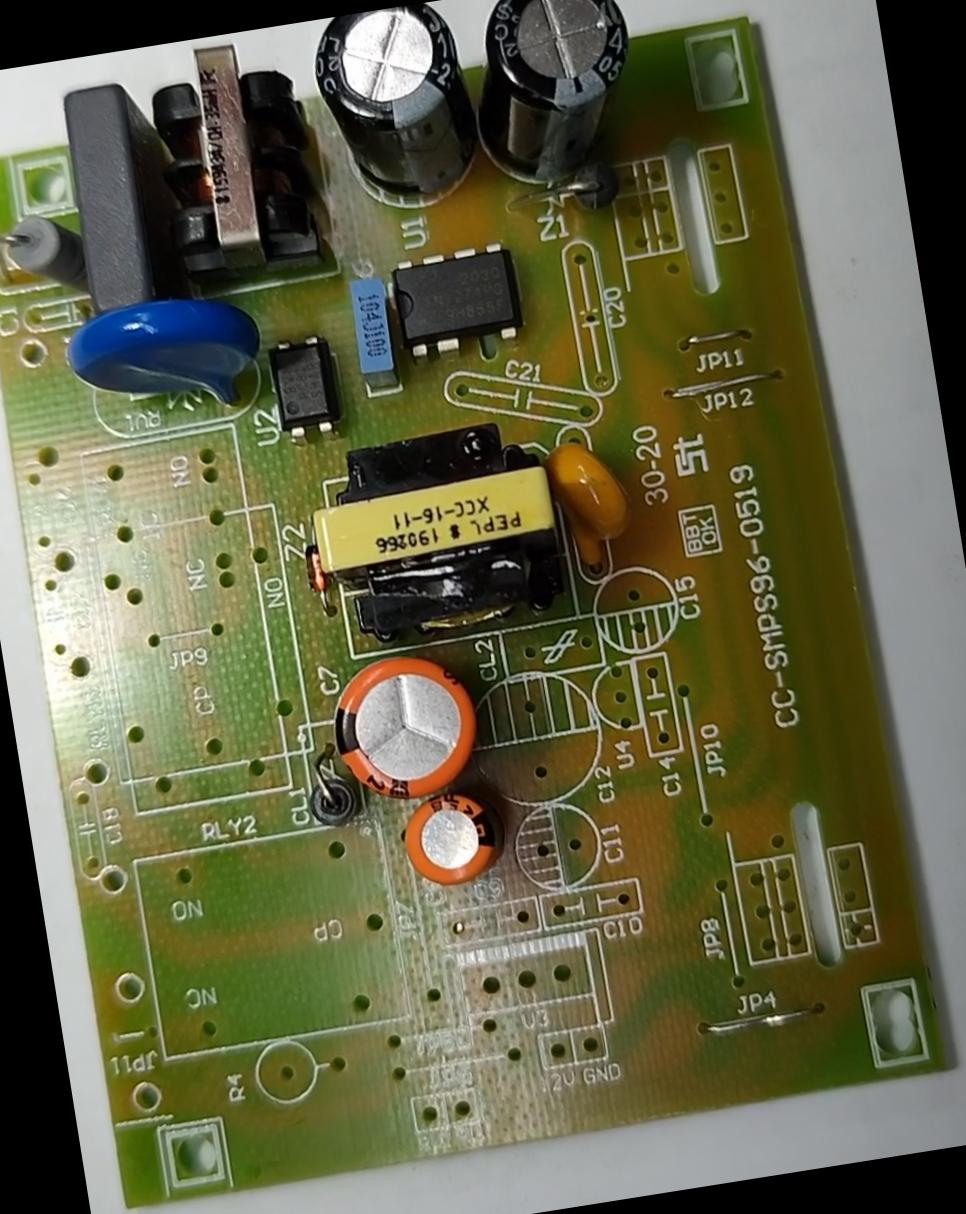Cap1: (314, 638, 492, 814)
Cap2: (384, 780, 514, 894)
Cap3: (300, 0, 486, 215)
Cap4: (457, 0, 653, 195)
MOSFET: (384, 230, 532, 370)
Mov: (54, 287, 270, 441)
Resistor: (0, 200, 89, 307)
Transformer: (295, 408, 575, 652), (132, 31, 338, 301)
